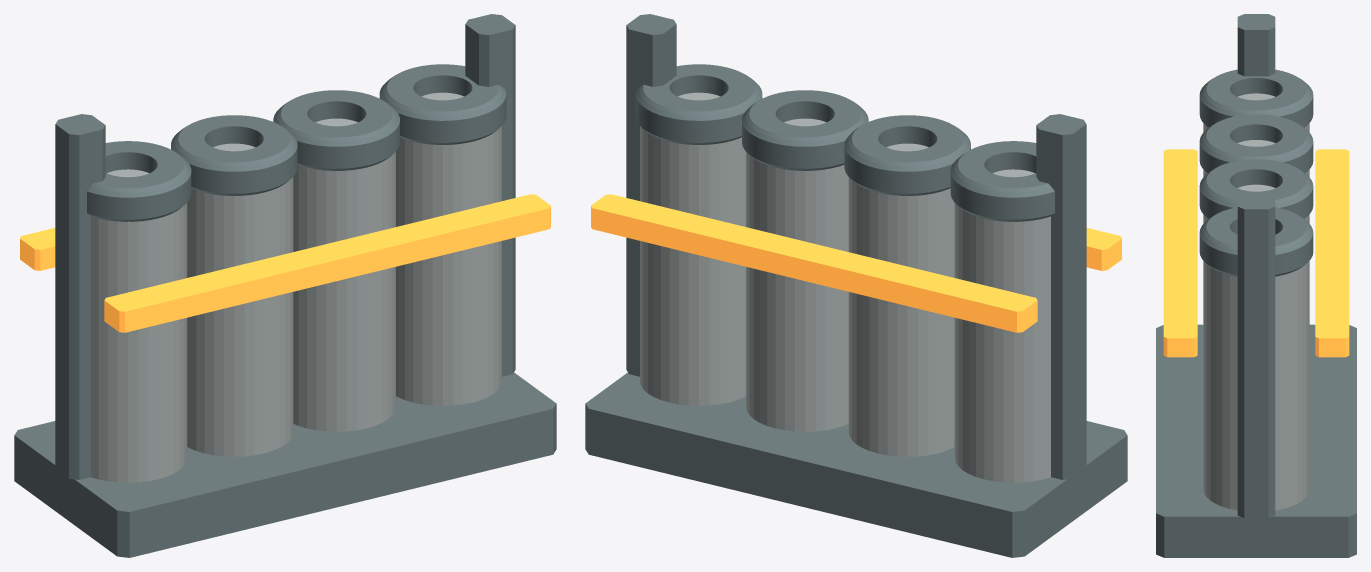
File: refinery-dressing-canister-rack-lod0.glb
3 views of the same model, side by side, from view 1: azimuth 30°, elevation 25°; view 2: azimuth 150°, elevation 25°; view 3: azimuth 270°, elevation 25° (orthographic). The views are drawn at different scales.
Visible parts, largest first — view 1: canister-pressure-tank (×4), canister-platform, canister-neck (×4), canister-frame (×2), canister-retaining-band (×2); view 2: canister-pressure-tank (×4), canister-platform, canister-neck (×4), canister-frame (×2), canister-retaining-band (×2); view 3: canister-platform, canister-neck (×4), canister-pressure-tank (×3), canister-frame (×2), canister-retaining-band (×2).
Part boxes in pixels (left/top/right/bottom): canister-pressure-tank (×4): left=91, top=92, right=501, bottom=482; canister-platform: left=14, top=372, right=556, bottom=557; canister-neck (×4): left=87, top=64, right=506, bottom=221; canister-frame (×2): left=55, top=14, right=515, bottom=479; canister-retaining-band (×2): left=20, top=194, right=550, bottom=332; canister-pressure-tank (×4): left=640, top=92, right=1050, bottom=482; canister-platform: left=585, top=372, right=1127, bottom=557; canister-neck (×4): left=635, top=64, right=1054, bottom=221; canister-frame (×2): left=626, top=14, right=1086, bottom=479; canister-retaining-band (×2): left=591, top=194, right=1121, bottom=332; canister-platform: left=1156, top=324, right=1356, bottom=557; canister-neck (×4): left=1199, top=69, right=1313, bottom=276; canister-pressure-tank (×3): left=1203, top=93, right=1309, bottom=510; canister-frame (×2): left=1237, top=14, right=1275, bottom=518; canister-retaining-band (×2): left=1163, top=149, right=1349, bottom=357.
Size of the model in its own units: 1.22 by 1.02 by 0.53.
